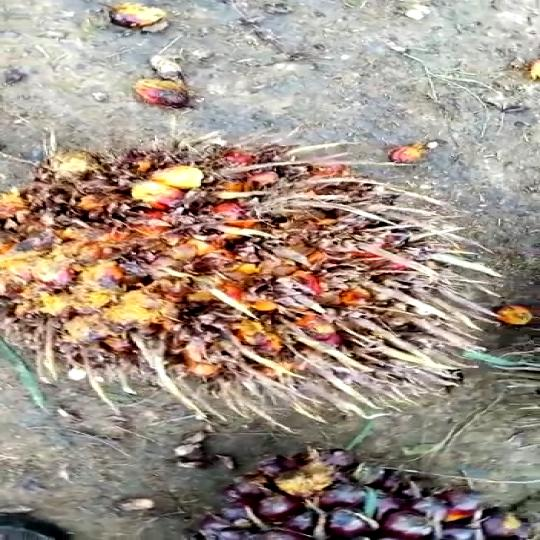terlalu masak: (4, 120, 540, 435)
